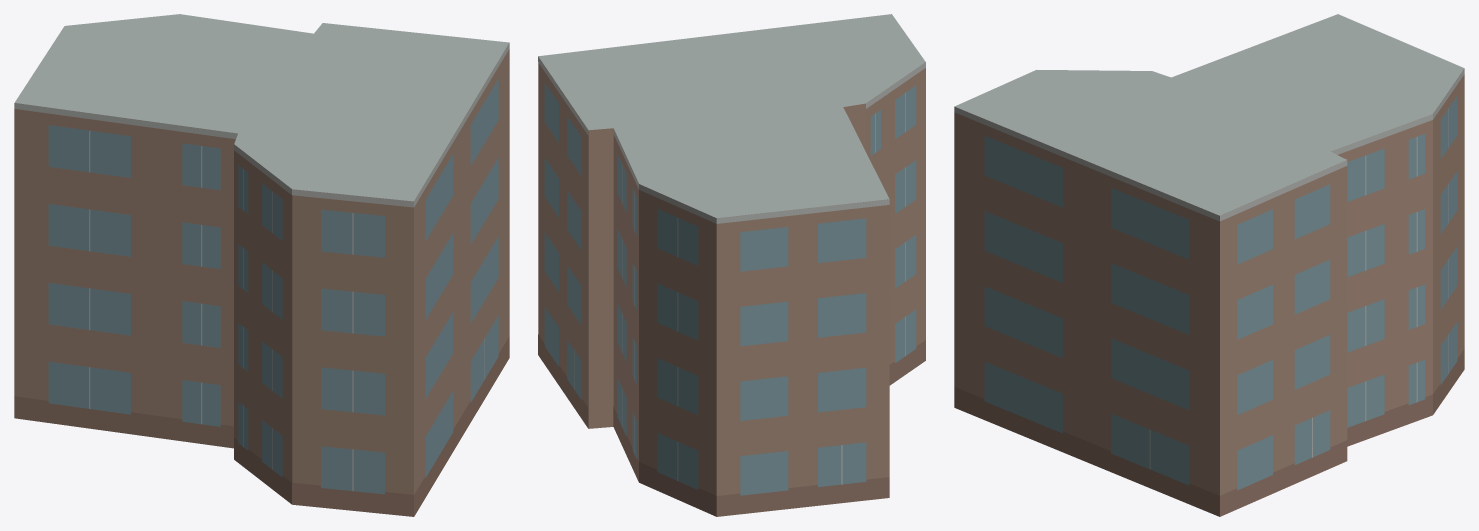
Rendered from survey-upis-32489913.glb.
The picture shows the model from 3 angles, left to right: view 1: azimuth 30°, elevation 25°; view 2: azimuth 150°, elevation 25°; view 3: azimuth 270°, elevation 25°; orthographic projection. The views are drawn at different scales.
Visible parts, largest first — view 1: survey-upis-32489913.tmp; view 2: survey-upis-32489913.tmp; view 3: survey-upis-32489913.tmp.
Part boxes in pixels (bbox=[...]): survey-upis-32489913.tmp: bbox=[14, 14, 509, 516]; survey-upis-32489913.tmp: bbox=[538, 14, 925, 516]; survey-upis-32489913.tmp: bbox=[954, 14, 1464, 516].
Size of the model in its own units: 18.4 by 12.8 by 19.67.
